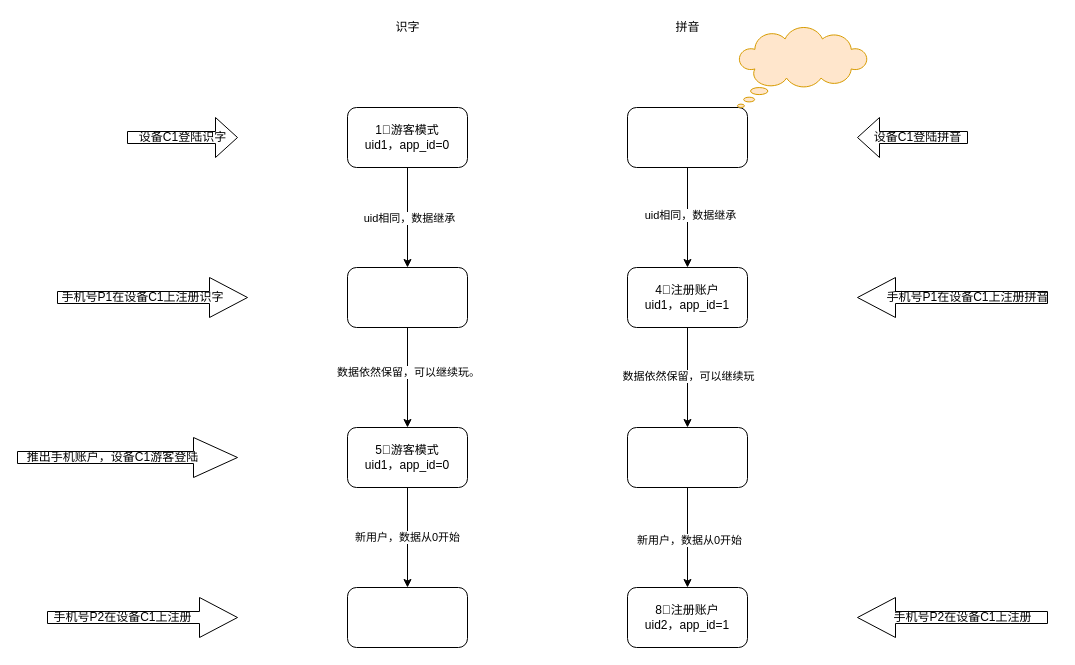
This 1075x665 diagram has some shape labels left out. The box of each missing label's shape, as (x1, y1, x2, y2) in pixels:
2⃣️游客模式 uid1，app_id=1: (626, 106, 748, 168)
3⃣️注册账户 uid1，app_id=0: (346, 266, 468, 328)
6⃣️游客模式 uid1，app_id=0: (626, 426, 748, 488)
7⃣️注册账户 uid2，app_id=0: (346, 586, 468, 648)
执行了3⃣️步骤后，游客模式依然可以继续玩，有数据: (736, 26, 868, 108)
